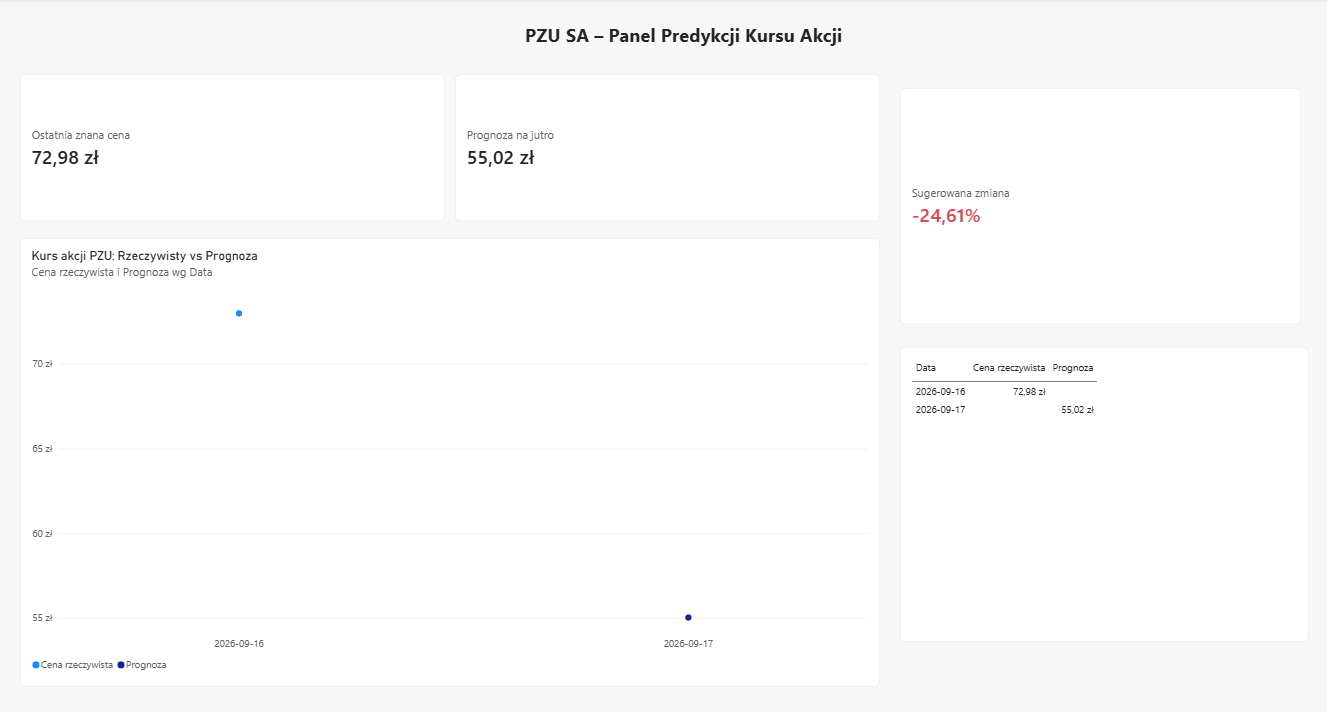

What the dashboard file says about the page in this screenshot:
{"tool":"powerbi","page":{"name":"Dashboard","canvas":[1920,1080],"ordinal":0},"visuals":[{"type":"lineChart","title":"Kurs akcji PZU: Rzeczywisty vs Prognoza","fields":{"Category":["predictions.Data"],"Y":["Sum(predictions.Cena_Rzeczywista)","Sum(predictions.Cena_Przewidywana)"]},"box":[29,347.5,1245,649.7],"z":0},{"type":"cardVisual","fields":{"Data":["predictions.PrognozaNaJutro"]},"box":[658.7,110.4,615.3,213.5],"z":1000},{"type":"cardVisual","fields":{"Data":["predictions.OstatniaCena"]},"box":[29,110.4,615.3,213.5],"z":2000},{"type":"cardVisual","fields":{"Data":["predictions.SugerowanaZmiana"]},"box":[1303,130.3,580.9,342],"z":3000},{"type":"tableEx","fields":{"Values":["predictions.Data","Sum(predictions.Cena_Rzeczywista)","Sum(predictions.Cena_Przewidywana)"]},"box":[1303,504.9,591.8,427.1],"z":4000},{"type":"textbox","box":[760.1,34.4,542.9,76],"z":5000}]}

Visuals, with their boxes on the page's 1920x1080 design canvas (x1, y1, x2, y2). These are canvas units, not pixel positions in the 1327x712 screenshot, which may show the page scaled, cropped or inside an application window:
"Kurs akcji PZU: Rzeczywisty vs Prognoza" lineChart: bbox=[29, 348, 1274, 997]
cardVisual - predictions.PrognozaNaJutro: bbox=[659, 110, 1274, 324]
cardVisual - predictions.OstatniaCena: bbox=[29, 110, 644, 324]
cardVisual - predictions.SugerowanaZmiana: bbox=[1303, 130, 1884, 472]
tableEx - predictions.Data x Sum(predictions.Cena_Rzeczywista): bbox=[1303, 505, 1895, 932]
textbox: bbox=[760, 34, 1303, 110]
